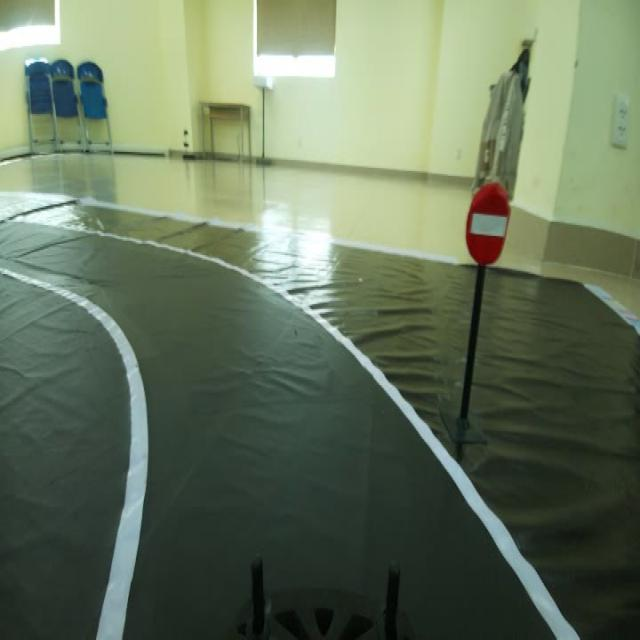no_entry: (462, 181, 507, 266)
